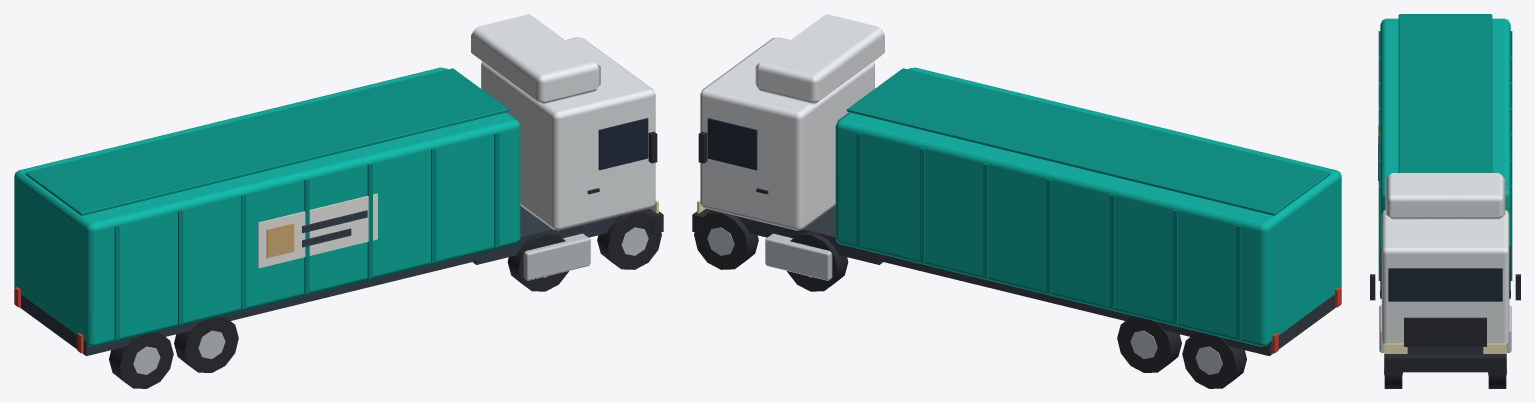
The model's file is welt_lkw.glb.
The picture shows the model from 3 angles, left to right: view 1: azimuth 30°, elevation 25°; view 2: azimuth 150°, elevation 25°; view 3: azimuth 270°, elevation 25°; orthographic projection. The views are drawn at different scales.
Visible parts, largest first — view 1: welt_lkw; view 2: welt_lkw; view 3: welt_lkw.
Boxes of the visible parts, x1,y1,x2,y2 form: welt_lkw: [14, 14, 663, 388]; welt_lkw: [692, 14, 1341, 388]; welt_lkw: [1370, 14, 1520, 388].
Bounding box in the file's own units: 10.67 × 3.78 × 2.9.
